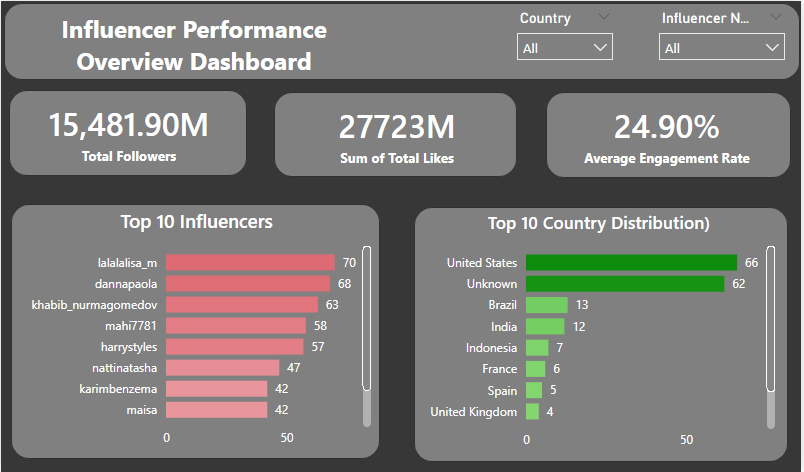

The page's visual inventory and layout, read from the dashboard file:
{"tool":"powerbi","page":{"name":"Dashboard 1","canvas":[800,471],"ordinal":0},"visuals":[{"type":"shape","box":[3,2,796,77],"z":0},{"type":"shape","box":[8,89,238,86],"z":1000},{"type":"shape","box":[273,91,243,85],"z":2000},{"type":"shape","box":[545,91,245,86],"z":3000},{"type":"shape","box":[10,203,369,255],"z":4000},{"type":"shape","box":[413,206,374,255],"z":5000},{"type":"card","fields":{"Values":["top_insta_influencers_data_cleaned.Total Followers"]},"box":[15,92,226,78],"z":6000},{"type":"card","fields":{"Values":["top_insta_influencers_data_cleaned.Total Likes"]},"box":[283,94,226,78],"z":7000},{"type":"card","fields":{"Values":["top_insta_influencers_data_cleaned.Average Engagement Rate"]},"box":[553,94,226,78],"z":8000},{"type":"slicer","fields":{"Values":["top_insta_influencers_data_cleaned.Influencer Name"]},"box":[648,4,146,74],"z":9000},{"type":"slicer","fields":{"Values":["top_insta_influencers_data_cleaned.Country"]},"box":[506,4,116,72],"z":10000},{"type":"barChart","title":"Top 10 Influencers","fields":{"Y":["top_insta_influencers_data_cleaned.Influence Score"],"Category":["top_insta_influencers_data_cleaned.Influencer Name"]},"box":[16,207,359,248],"z":11000},{"type":"barChart","title":"Top 10 Country Distribution)","fields":{"Category":["top_insta_influencers_data_cleaned.Country"],"Y":["top_insta_influencers_data_cleaned.Influencers Count"]},"box":[417,209,362,248],"z":12000},{"type":"textbox","box":[11,6,364,79],"z":13000}]}

Visuals, with their boxes in screenshot pixels (x1, y1, x2, y2), scaled from the page's 800x471 canvas onto the 804x472 screenshot:
shape: rect(3, 2, 803, 79)
shape: rect(8, 89, 247, 175)
shape: rect(274, 91, 519, 176)
shape: rect(548, 91, 794, 177)
shape: rect(10, 203, 381, 459)
shape: rect(415, 206, 791, 462)
card - top_insta_influencers_data_cleaned.Total Followers: rect(15, 92, 242, 170)
card - top_insta_influencers_data_cleaned.Total Likes: rect(284, 94, 512, 172)
card - top_insta_influencers_data_cleaned.Average Engagement Rate: rect(556, 94, 783, 172)
slicer - top_insta_influencers_data_cleaned.Influencer Name: rect(651, 4, 798, 78)
slicer - top_insta_influencers_data_cleaned.Country: rect(509, 4, 625, 76)
"Top 10 Influencers" barChart: rect(16, 207, 377, 456)
"Top 10 Country Distribution)" barChart: rect(419, 209, 783, 458)
textbox: rect(11, 6, 377, 85)
